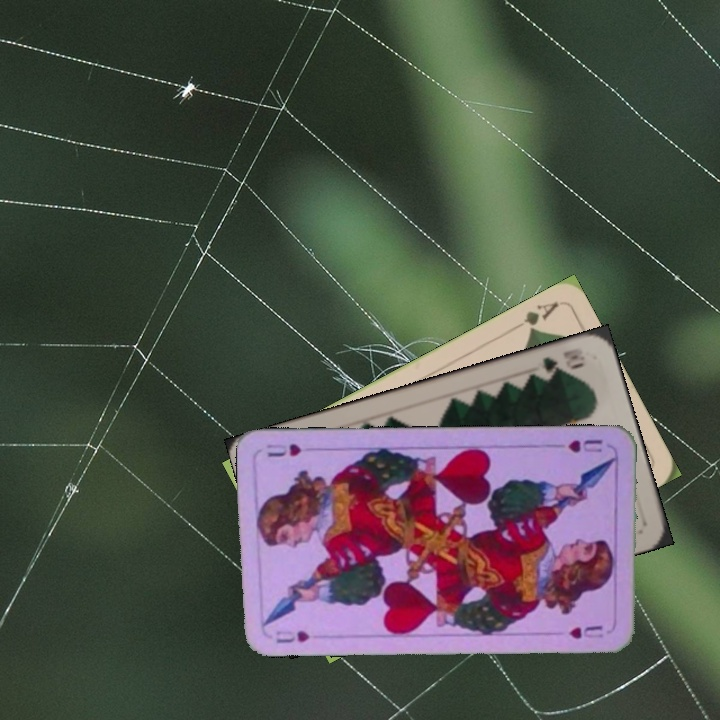G10: (538, 344, 587, 378)
GA: (507, 297, 562, 337)
HU: (564, 435, 605, 455), (272, 626, 312, 646)
